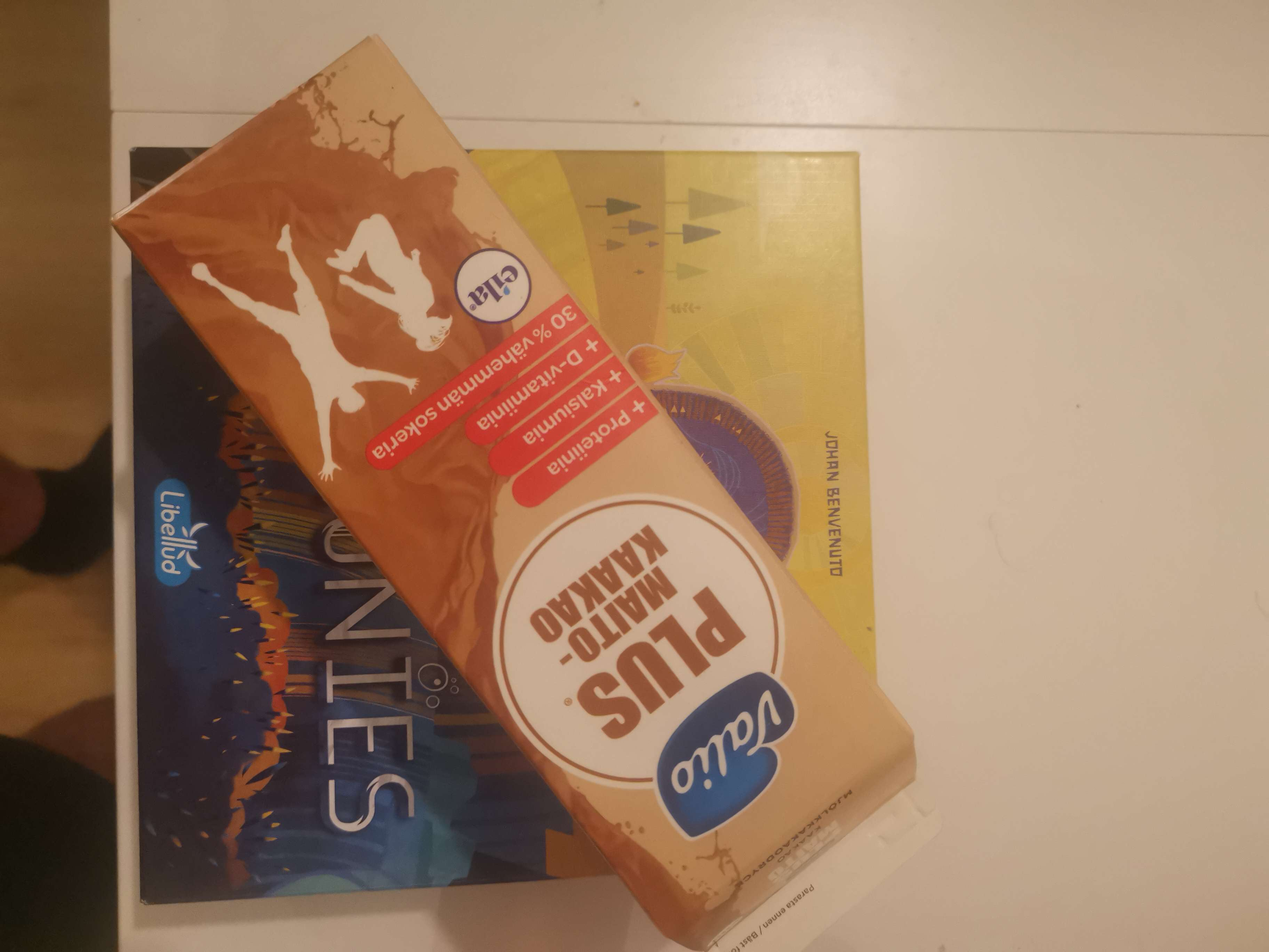Dryckeskartong: (109, 35, 951, 952)
